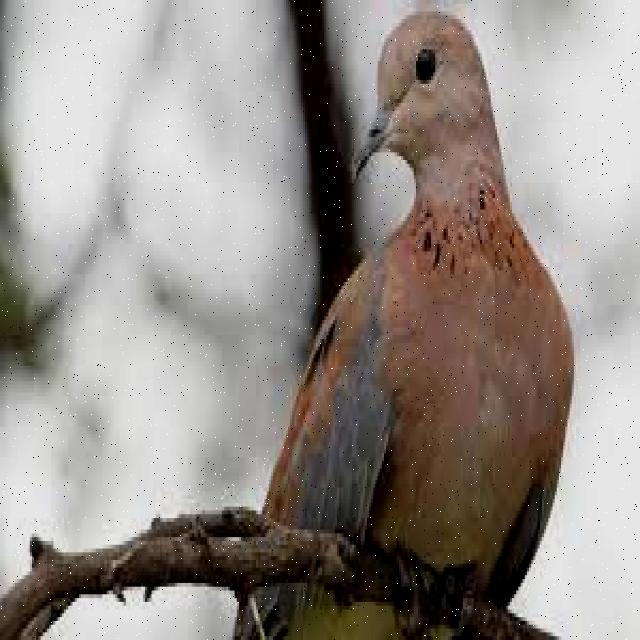dove: (237, 0, 576, 640)
